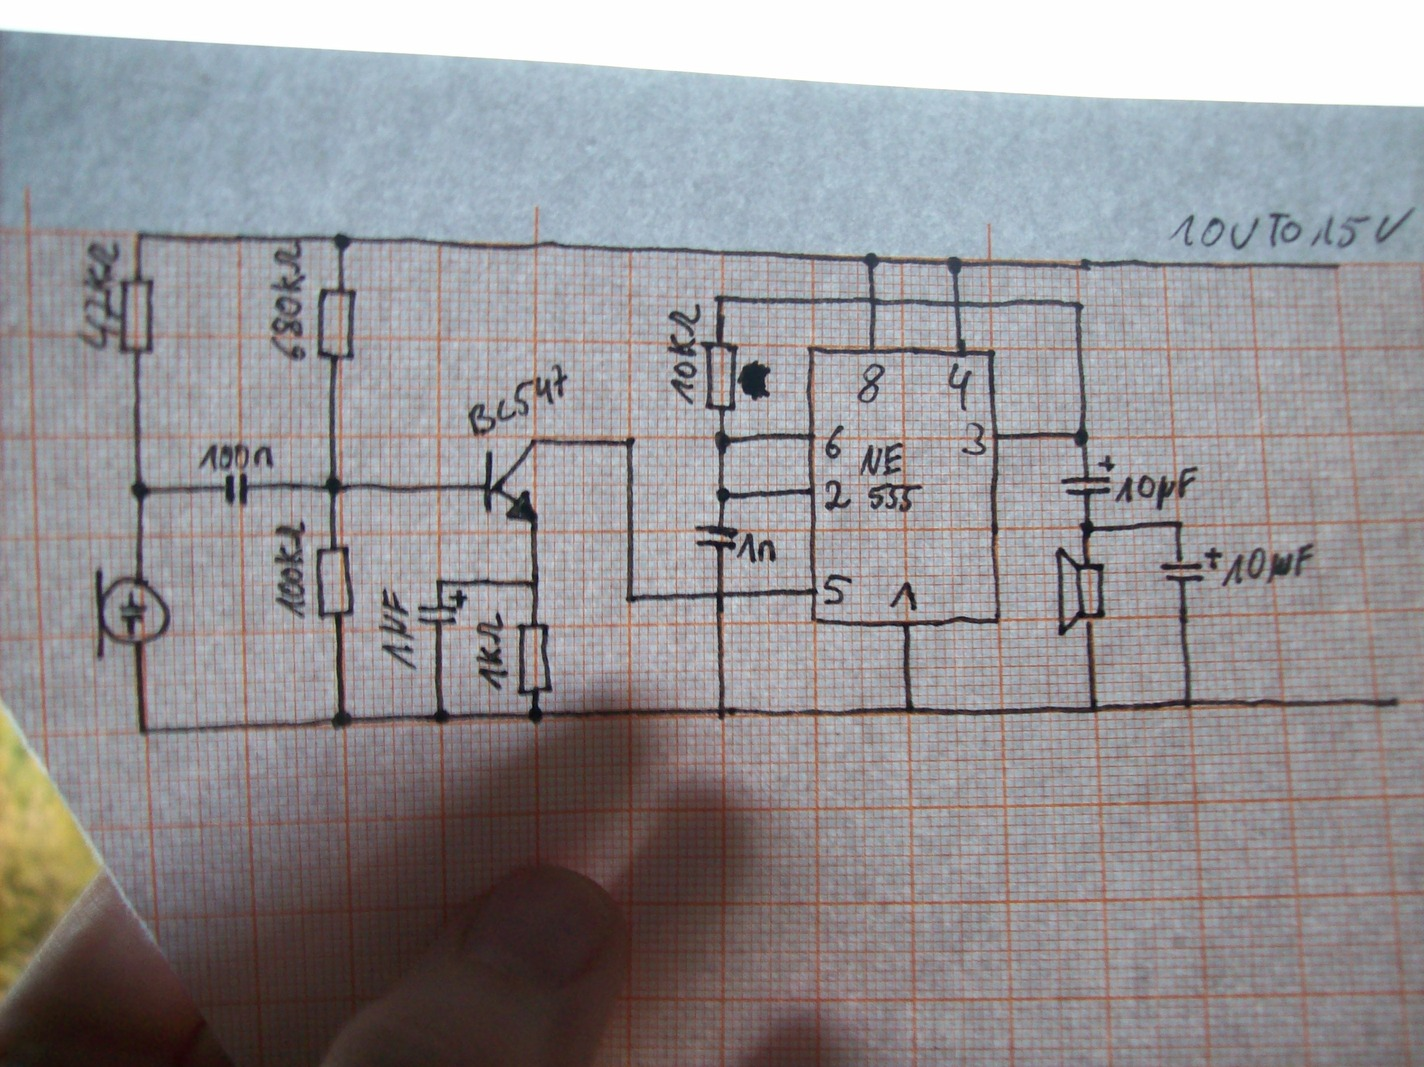capacitor.polarized: (1059, 454, 1116, 497), (1160, 546, 1223, 584), (418, 590, 468, 627)
capacitor.unpolarized: (692, 521, 739, 551), (221, 472, 251, 508)
crossover: (711, 587, 730, 602), (865, 293, 882, 308), (951, 297, 965, 310)
integrated_cricuit.ne555: (802, 343, 1004, 629)
junction: (129, 480, 153, 503), (329, 709, 355, 732), (714, 703, 738, 722), (324, 475, 345, 497), (332, 231, 353, 252), (1072, 428, 1092, 448), (944, 254, 964, 275), (525, 705, 545, 725), (860, 251, 882, 269), (714, 430, 730, 453), (133, 724, 156, 741), (432, 707, 452, 726), (1077, 519, 1097, 537), (715, 488, 732, 505), (621, 434, 639, 451), (901, 702, 919, 718), (525, 575, 545, 591), (711, 290, 728, 307), (133, 228, 148, 245), (1087, 700, 1102, 716), (1181, 695, 1195, 711), (1071, 298, 1087, 312), (432, 577, 449, 590), (1173, 517, 1186, 531), (623, 592, 636, 606)
microphone: (93, 566, 173, 659)
resistor: (313, 544, 357, 622), (315, 285, 359, 364), (118, 276, 156, 358), (515, 621, 553, 697), (699, 340, 738, 414)
speaker: (1053, 546, 1108, 635)
terminal: (1380, 690, 1413, 714), (1327, 254, 1353, 276)
text: (1169, 207, 1417, 251), (467, 362, 569, 437), (269, 241, 310, 363), (76, 239, 119, 354), (859, 442, 923, 513), (1221, 542, 1316, 587), (1114, 465, 1199, 513), (271, 519, 310, 622), (666, 301, 702, 407), (376, 586, 418, 671), (475, 610, 510, 693), (196, 440, 276, 474), (735, 531, 779, 565), (946, 362, 972, 411), (856, 362, 886, 405), (822, 573, 854, 607), (959, 421, 988, 457), (823, 479, 853, 513), (888, 581, 919, 613), (823, 424, 846, 461)
transistor: (482, 438, 543, 525)
